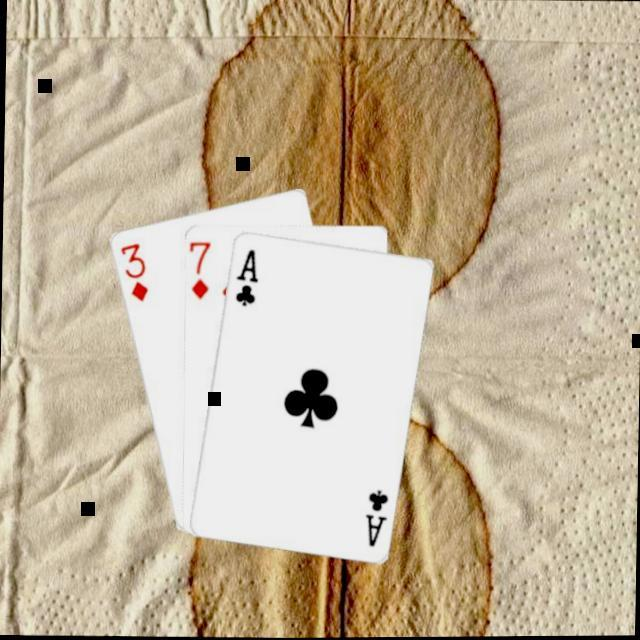3D: (116, 236, 152, 304)
7D: (189, 237, 214, 301)
AC: (231, 245, 262, 308), (362, 486, 391, 548)
